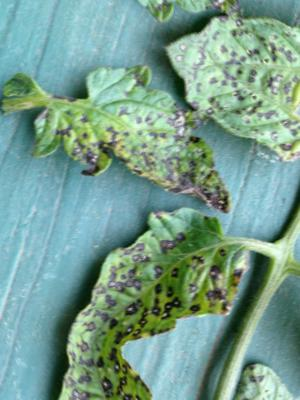Tomato Septoria leaf spot: (0, 30, 272, 228), (63, 188, 257, 378), (123, 42, 300, 177)
